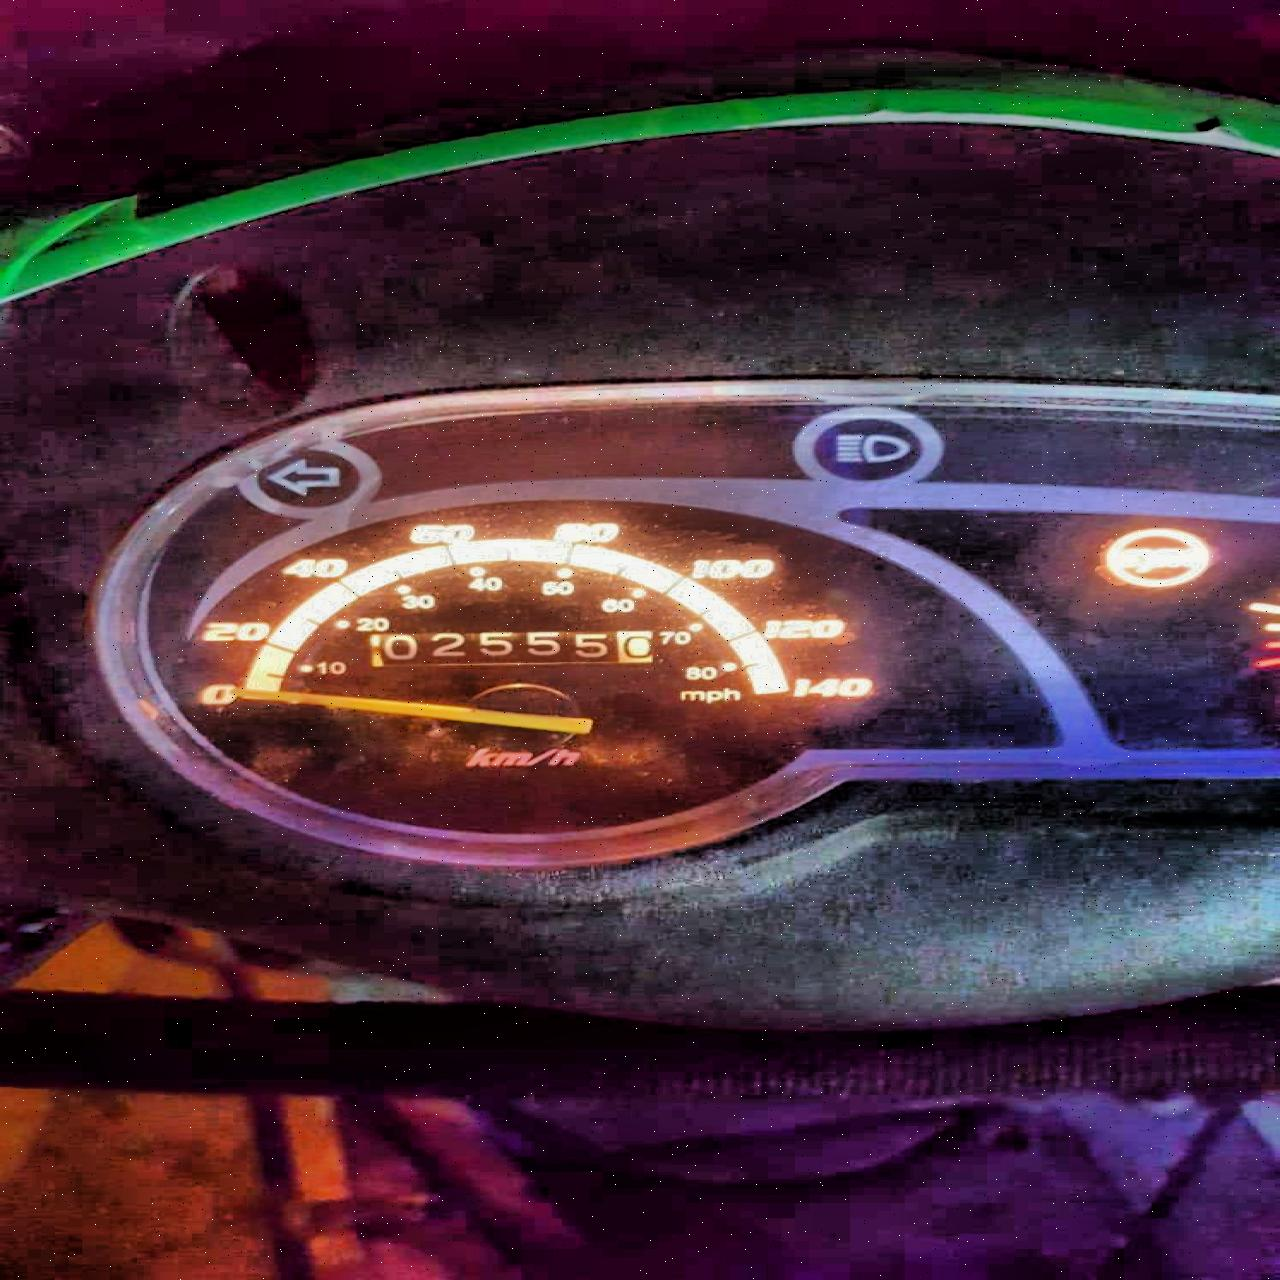0: (380, 633, 420, 660), (622, 634, 653, 659)
2: (428, 629, 468, 659)
5: (571, 633, 611, 658), (475, 631, 515, 655), (520, 631, 561, 654)
odometer: (365, 627, 658, 666)
